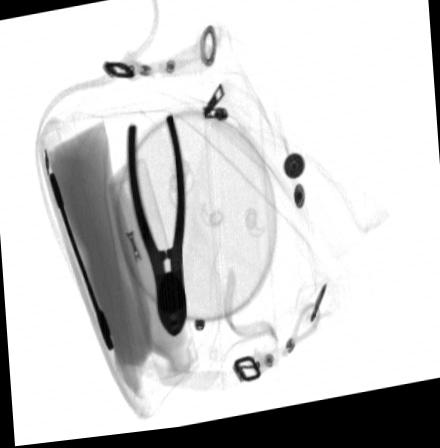Pliers: (129, 117, 187, 340)
Wrench: (50, 172, 114, 352)
